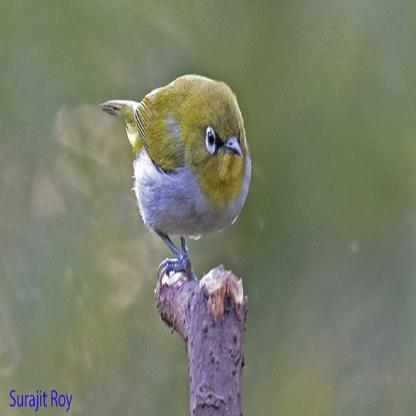Burung: (96, 72, 251, 277)
